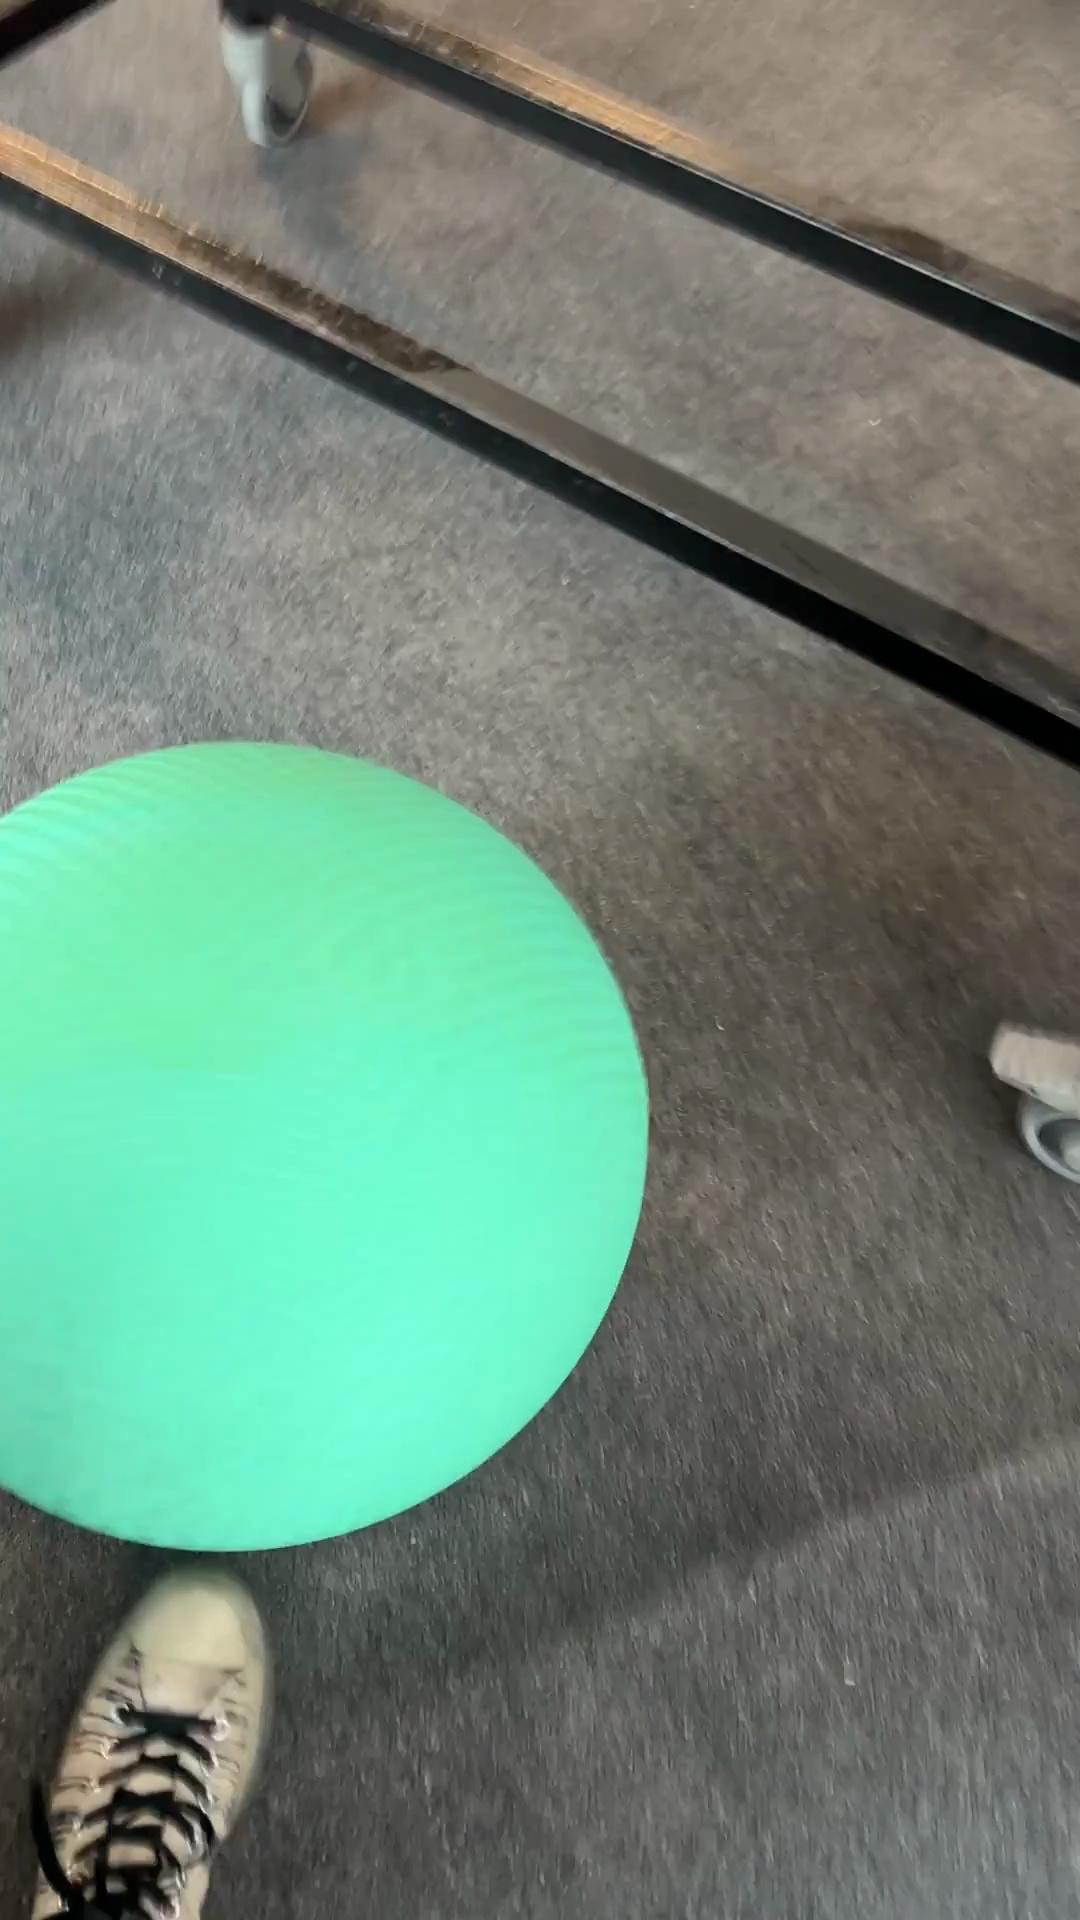ALGAE: (1, 735, 651, 1553)
